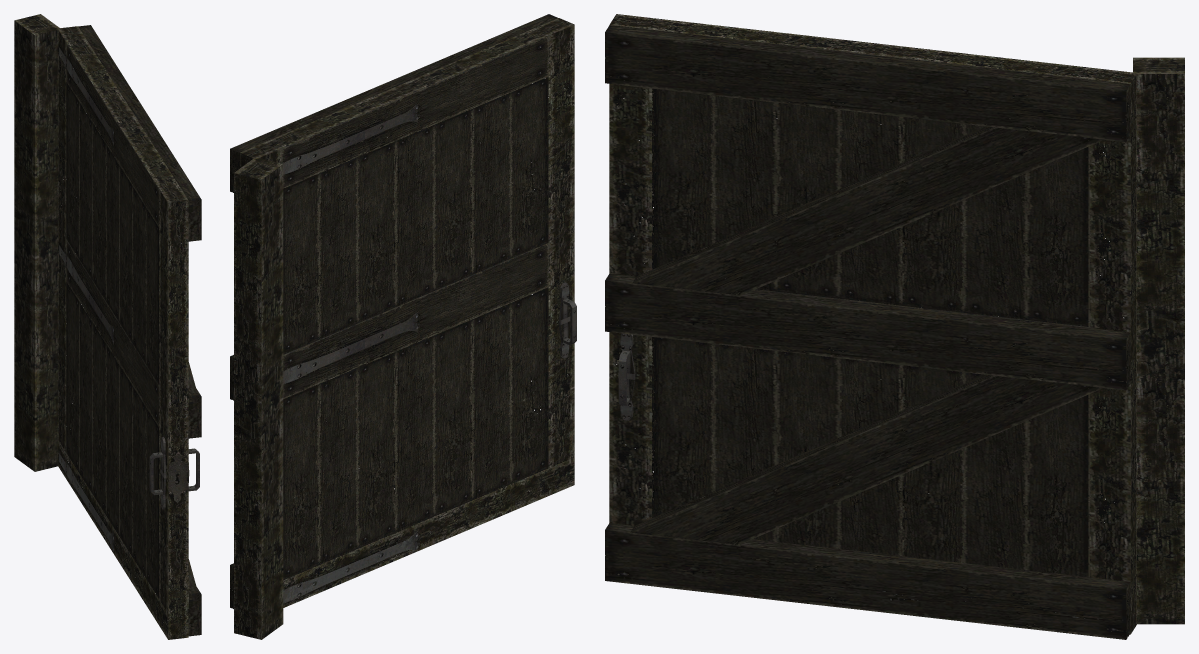
File: pubgate02_open.DAE
3 renders of one model, left to right at view 1: azimuth 30°, elevation 25°; view 2: azimuth 150°, elevation 25°; view 3: azimuth 270°, elevation 25°, orthographic. The views are drawn at different scales.
Parts seen in each view (by area): view 1: Box044, Object094; view 2: Box044, Object094; view 3: Box044, Object094.
Boxes of the visible parts, x1,y1,x2,y2 form: Box044: (58,25,201,639); Object094: (14,14,61,471); Box044: (230,14,576,608); Object094: (234,157,283,639); Box044: (605,14,1136,639); Object094: (1133,57,1184,624).
Size of the model in its own units: 1.21 by 3.77 by 3.6.
